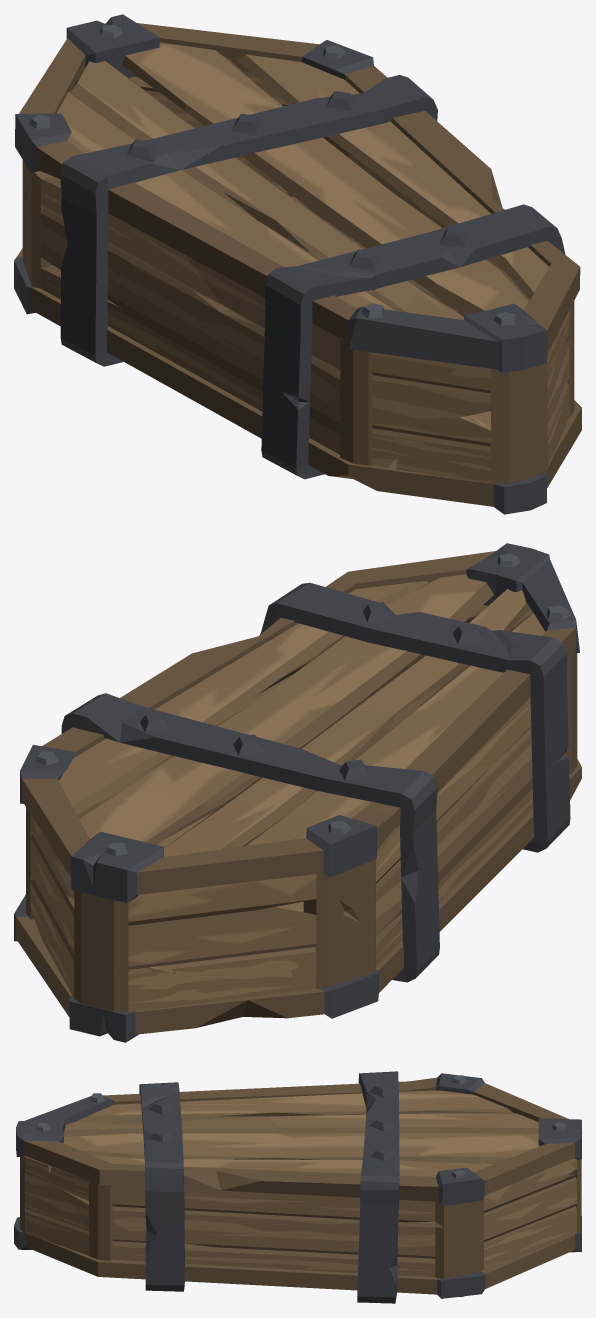
File: SM_Prop_Coffin_01.fbx
3 renders of one model, top to bottom at view 1: azimuth 30°, elevation 25°; view 2: azimuth 150°, elevation 25°; view 3: azimuth 270°, elevation 25°, orthographic. The views are drawn at different scales.
Parts seen in each view (by area): view 1: SM_Prop_Coffin_01; view 2: SM_Prop_Coffin_01; view 3: SM_Prop_Coffin_01.
Part boxes in pixels (left/top/right/bottom): SM_Prop_Coffin_01: left=14, top=14, right=581, bottom=514; SM_Prop_Coffin_01: left=14, top=543, right=581, bottom=1042; SM_Prop_Coffin_01: left=14, top=1071, right=581, bottom=1303.
Size of the model in its own units: 116 by 60.84 by 242.
